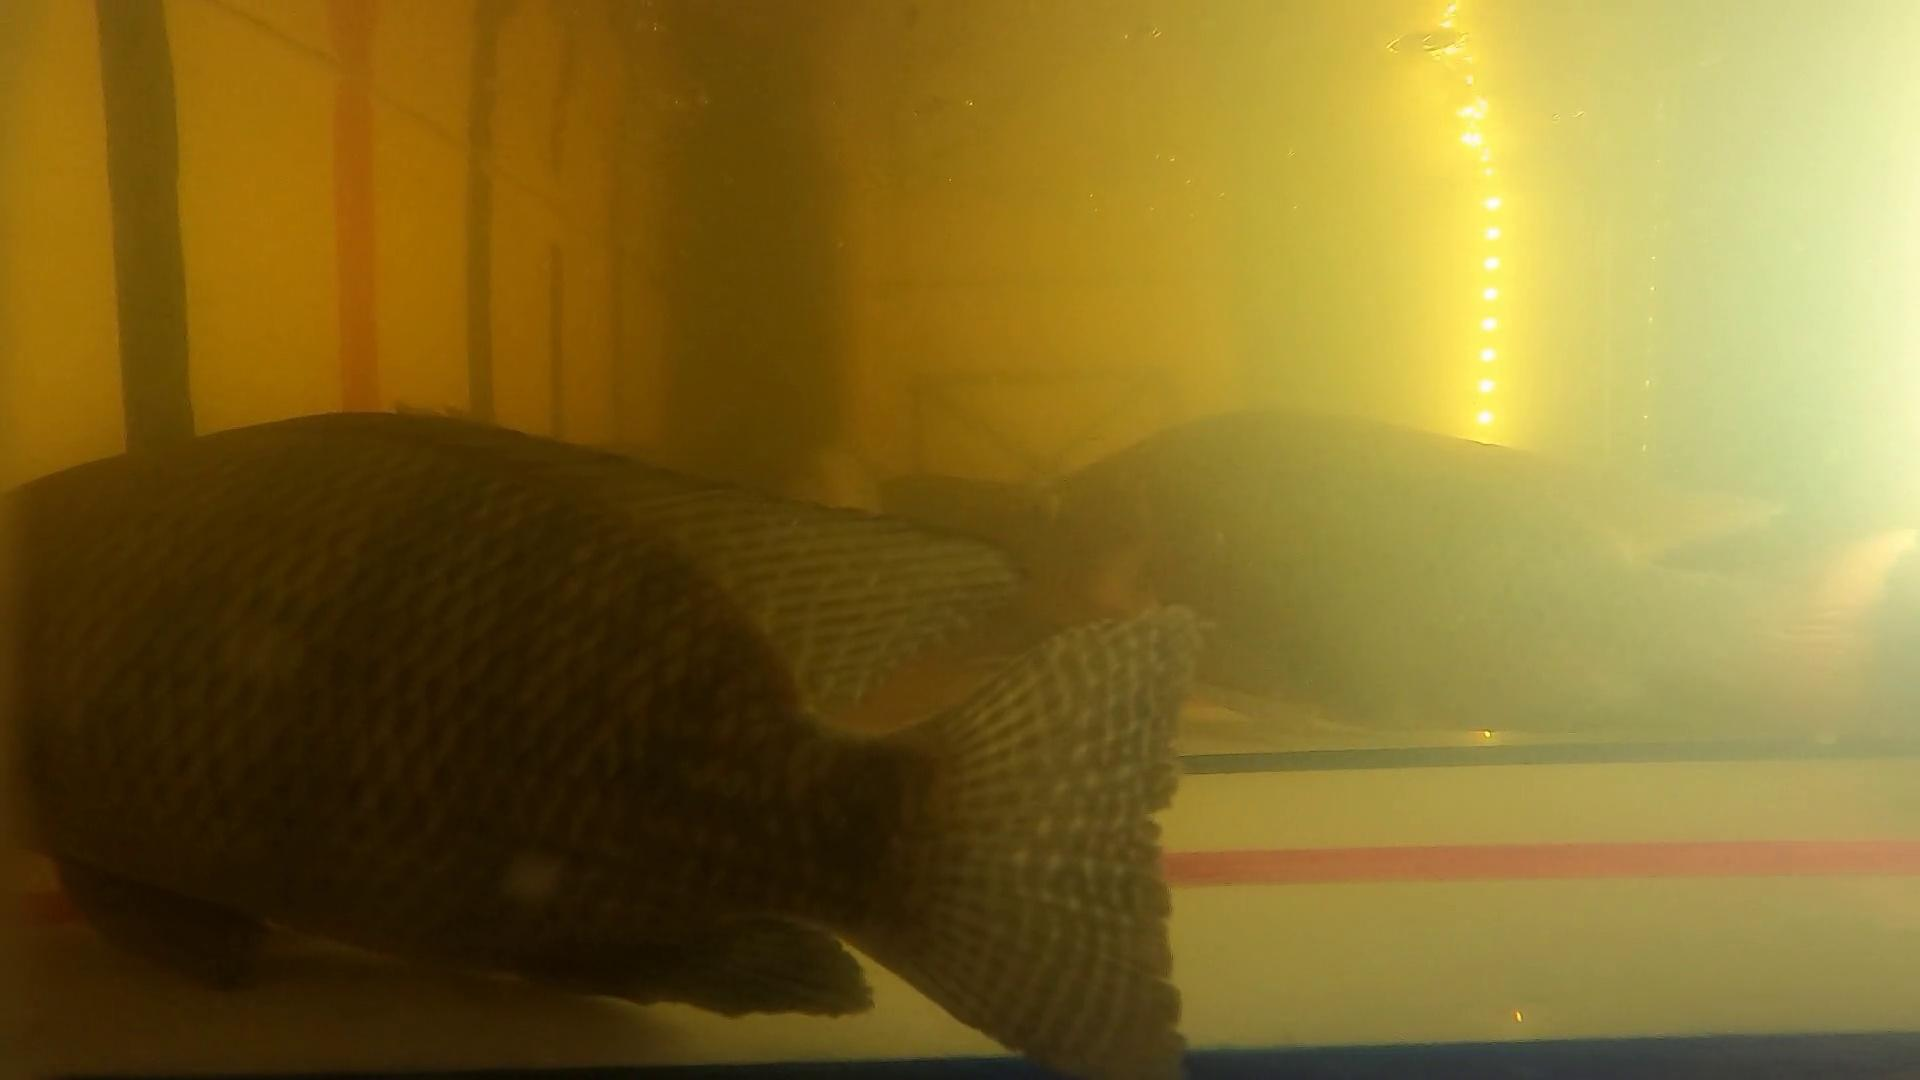Tilapia: (0, 414, 1204, 1080), (1031, 411, 1919, 756)
